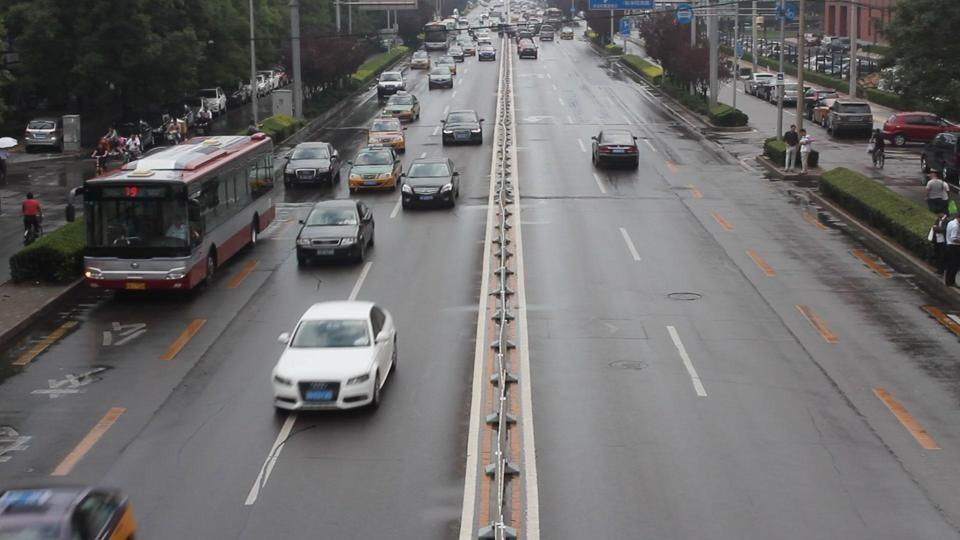car: (270, 300, 398, 415), (0, 480, 140, 538), (295, 199, 376, 267), (399, 159, 461, 210), (346, 145, 403, 193), (881, 111, 958, 146), (283, 142, 342, 187), (824, 97, 874, 139), (591, 129, 639, 172), (920, 131, 960, 181), (439, 109, 485, 146), (367, 116, 407, 155), (24, 117, 64, 153), (384, 91, 420, 124), (747, 72, 781, 100), (812, 94, 840, 126), (427, 57, 454, 90), (377, 71, 404, 99), (775, 82, 801, 107), (516, 35, 539, 60), (476, 44, 496, 61), (0, 136, 18, 151)
